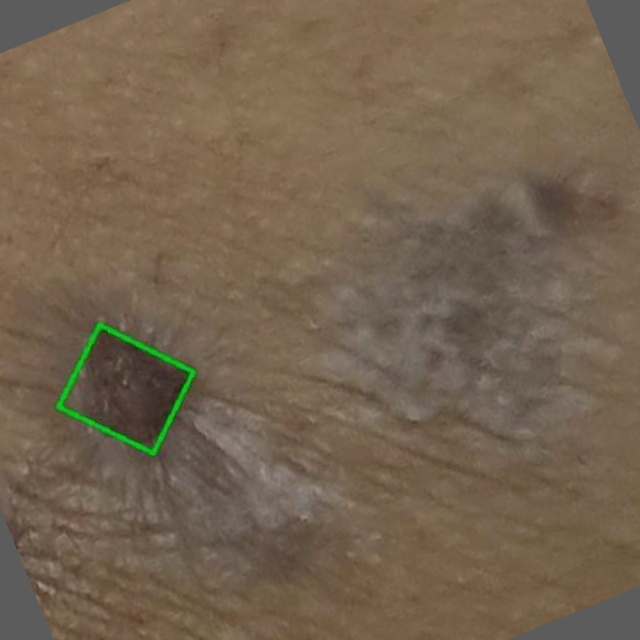Atopic Dermatitis: (59, 326, 192, 453)
